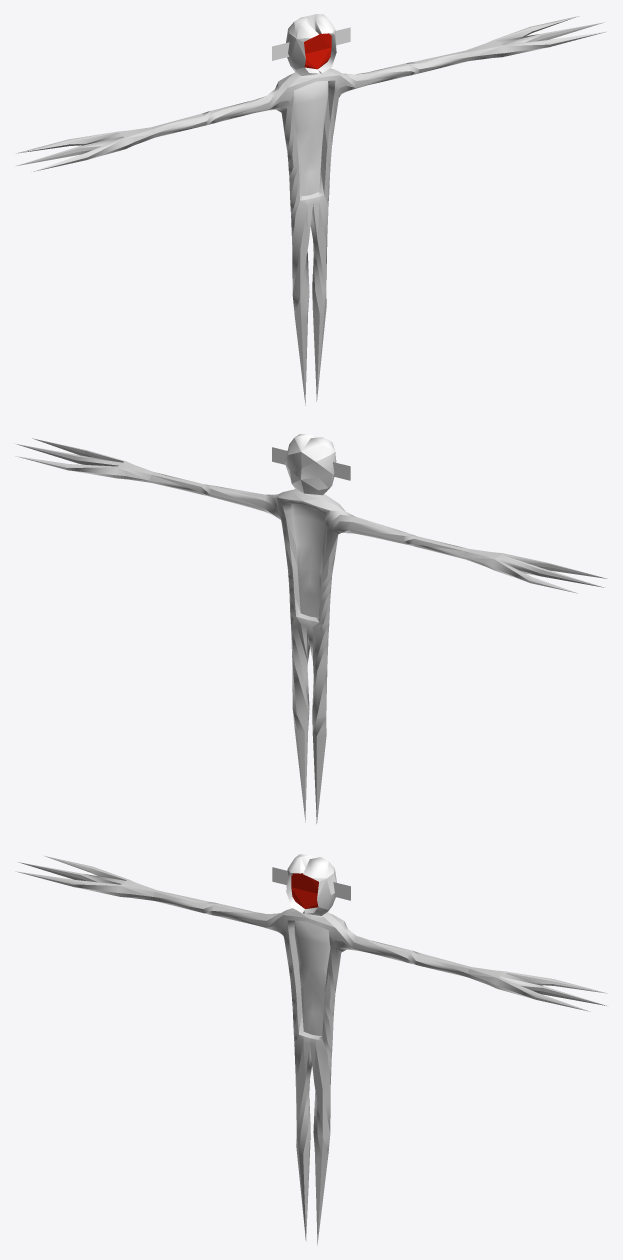
File: TheMissing.gltf
3 renders of one model, top to bottom at view 1: azimuth 30°, elevation 25°; view 2: azimuth 150°, elevation 25°; view 3: azimuth 330°, elevation 25°, orthographic.
Parts seen in each view (by area): view 1: Body, Head; view 2: Body, Head; view 3: Body, Head.
Part boxes in pixels (x1,y1,x2,y2): Body: [15, 16, 606, 405]; Head: [286, 14, 336, 76]; Body: [15, 438, 607, 823]; Head: [284, 434, 336, 495]; Body: [15, 855, 607, 1245]; Head: [286, 854, 336, 915].
Size of the model in its own units: 5.22 by 3.27 by 0.378.
